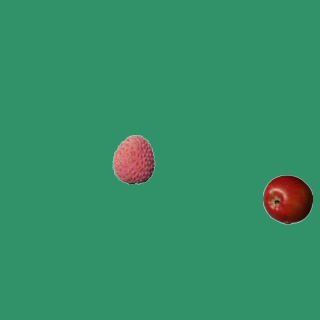Apple Braeburn: (262, 174, 312, 224)
Lychee: (108, 134, 158, 184)
